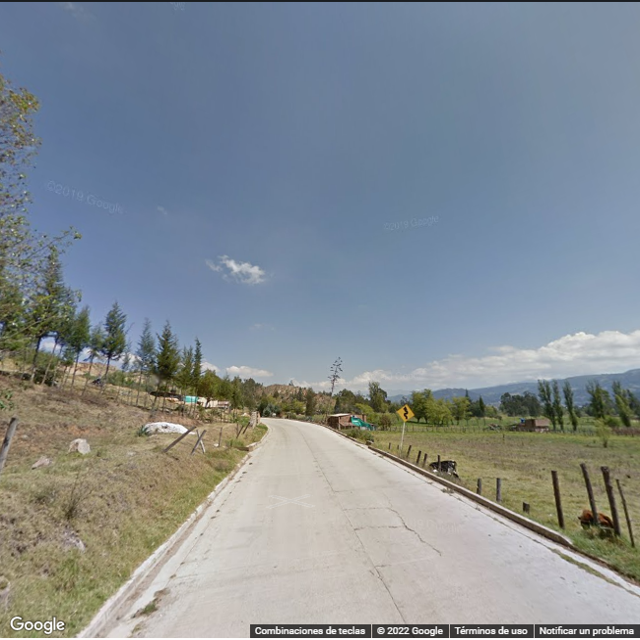D00: (389, 502, 436, 554)
D10: (348, 524, 406, 535), (343, 502, 383, 514)
